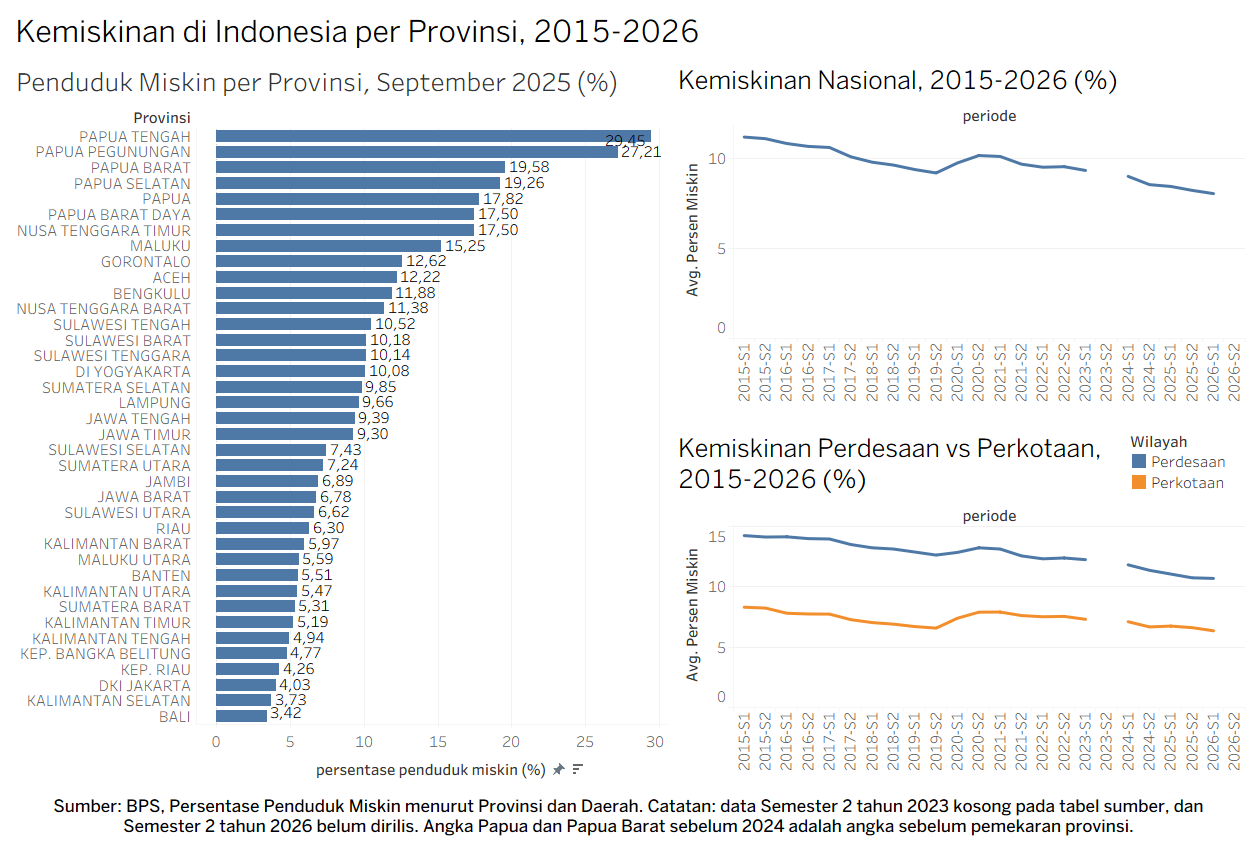

Layout of this report page (visuals, bound fields, positions):
{"tool":"tableau","page":{"name":"Dashboard Kemiskinan","canvas":[1000,1000],"units":"permille","ordinal":0},"visuals":[{"type":"title","box":[6.4,9.4,987.3,54.1]},{"type":"worksheet","title":"Peringkat Provinsi","mark":"Automatic","rows":["provinsi"],"cols":["persen_miskin"],"box":[6.4,63.5,430,866]},{"type":"worksheet","title":"Tren Nasional","mark":"Line","rows":["persen_miskin"],"cols":["Calculation_0874448581865473"],"box":[436.3,63.5,430,433]},{"type":"worksheet","title":"Desa vs Kota","mark":"Line","rows":["persen_miskin"],"cols":["Calculation_0874448581865473"],"box":[436.3,496.4,430,433.1]},{"type":"legend","title":"Desa vs Kota","param":"[federated.0131lkc1ycfavb15titoj1o0yvzx].[none:wilayah:nk]","box":[884.3,512.3,100,78.7]},{"type":"text","box":[6.4,929.5,987.3,61.1]}]}

Visuals, with their boxes on the dashboard's canvas, which has no fixed pixel size, in thousandths of its width and height (x1, y1, x2, y2). These are canvas units, not pixel positions in the 1257x851 screenshot, which may show the page scaled, cropped or inside an application window:
title: [6, 9, 994, 64]
"Peringkat Provinsi" worksheet: [6, 64, 436, 930]
"Tren Nasional" worksheet (Line marks): [436, 64, 866, 496]
"Desa vs Kota" worksheet (Line marks): [436, 496, 866, 930]
"Desa vs Kota" legend: [884, 512, 984, 591]
text: [6, 930, 994, 991]
